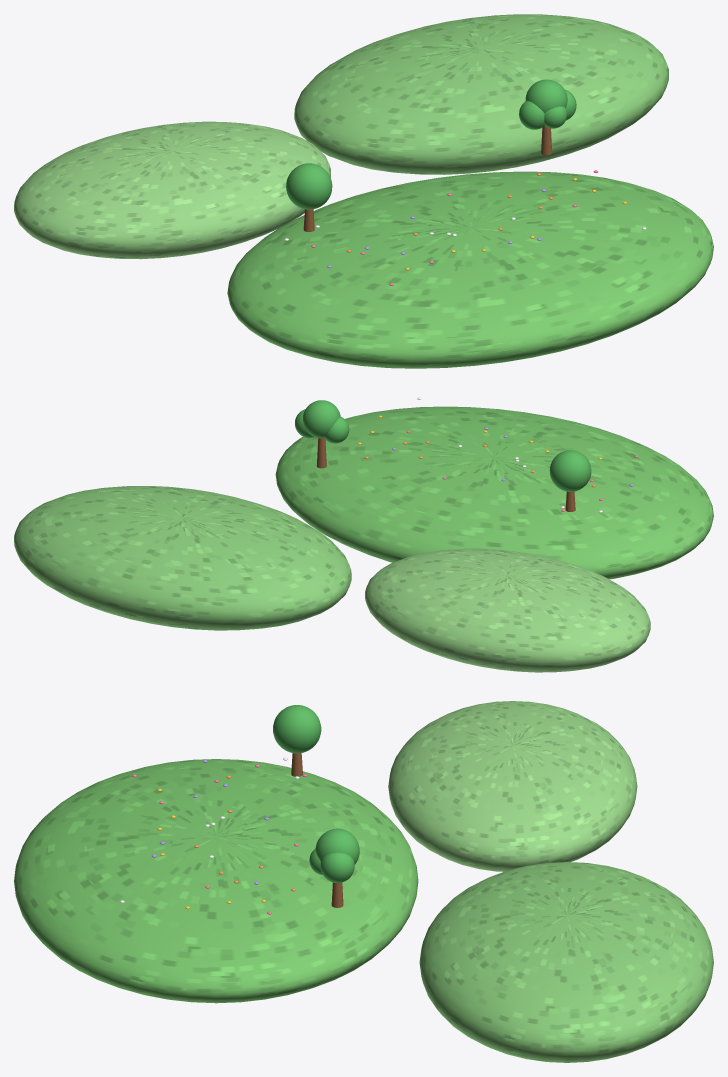
The model's file is meadow-v1.glb.
The picture shows the model from 3 angles, top to bottom: view 1: azimuth 30°, elevation 25°; view 2: azimuth 150°, elevation 25°; view 3: azimuth 270°, elevation 25°; orthographic projection. The views are drawn at different scales.
Parts seen in each view (by area): view 1: Hill (×2), Meadow, Tree (×2); view 2: Hill (×2), Meadow, Tree (×2); view 3: Hill (×2), Meadow, Tree (×2).
Part boxes in pixels (left/top/right/bottom): Hill (×2): left=14, top=14, right=668, bottom=259; Meadow: left=227, top=170, right=713, bottom=368; Tree (×2): left=286, top=79, right=576, bottom=231; Hill (×2): left=14, top=486, right=650, bottom=672; Meadow: left=275, top=397, right=713, bottom=579; Tree (×2): left=295, top=400, right=591, bottom=511; Hill (×2): left=388, top=701, right=713, bottom=1062; Meadow: left=14, top=757, right=418, bottom=1003; Tree (×2): left=273, top=705, right=359, bottom=907.
Size of the model in its own units: 29.4 by 6.65 by 25.96.
10 materials, 3 textured.
